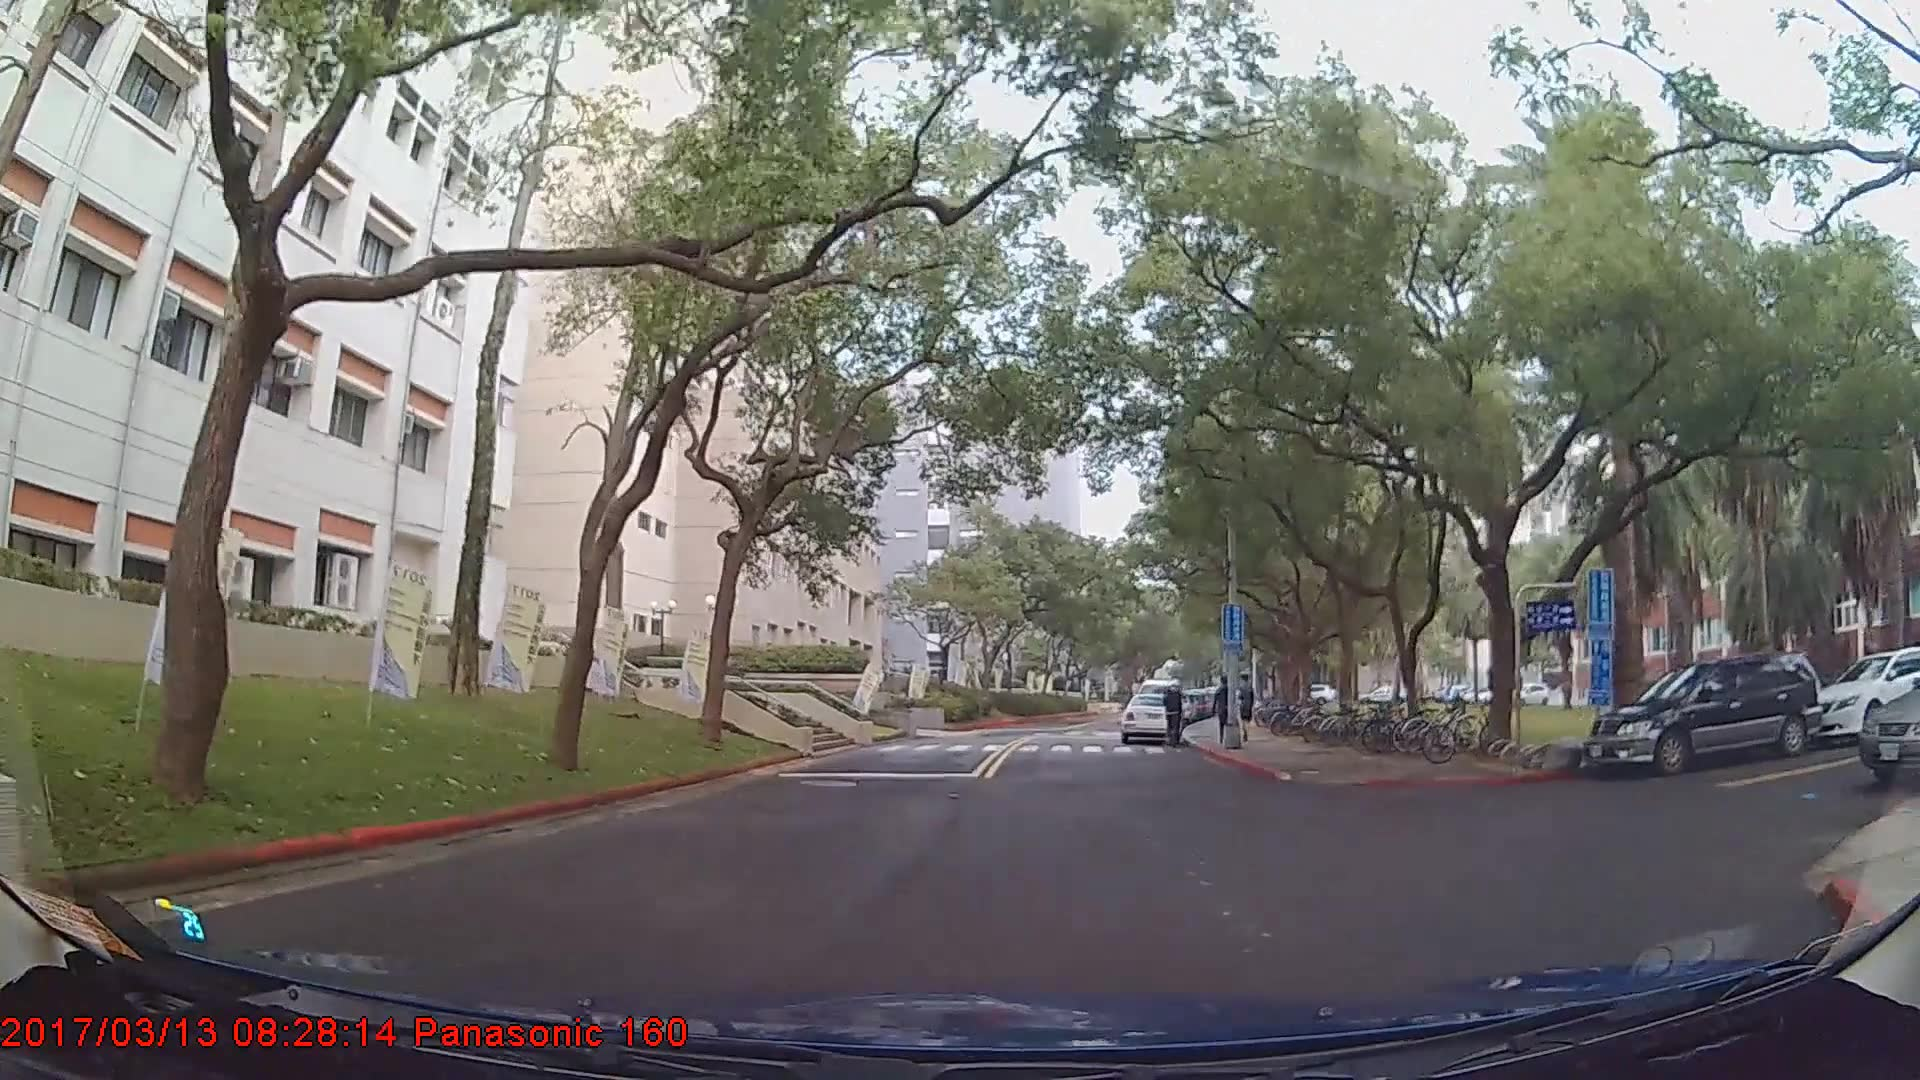pedestrian: (1212, 676, 1237, 745), (1161, 679, 1182, 751)
vehicle: (1585, 650, 1823, 779), (1811, 646, 1920, 741), (1855, 647, 1920, 784), (1117, 690, 1180, 741)
